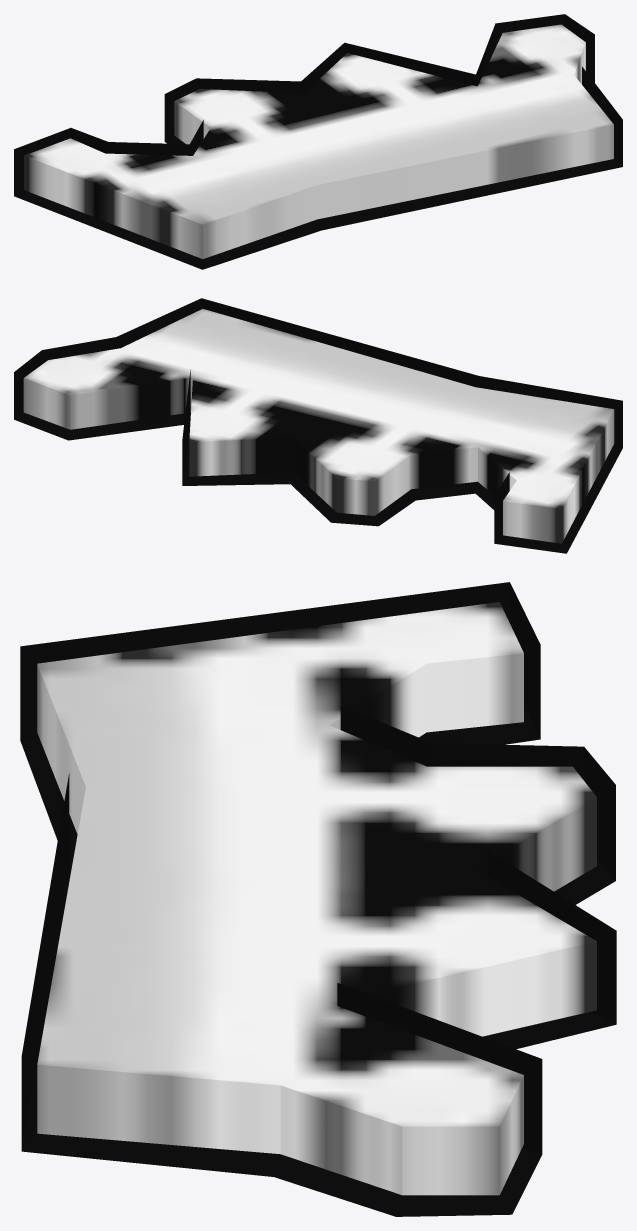
Rendered from Item_Apparel_Coronet_Things_Pawn_Humanlike_Apparel_Coronet_Coronet.glb.
The picture shows the model from 3 angles, top to bottom: view 1: azimuth 30°, elevation 25°; view 2: azimuth 150°, elevation 25°; view 3: azimuth 270°, elevation 25°; orthographic projection. The views are drawn at different scales.
Visible parts, largest first — view 1: Body, Outline; view 2: Body, Outline; view 3: Body, Outline.
Part boxes in pixels (x1=…): Body: x1=24, y1=24, x2=613, y2=258; Outline: x1=14, y1=14, x2=622, y2=269; Body: x1=23, y1=309, x2=614, y2=543; Outline: x1=14, y1=298, x2=622, y2=553; Body: x1=37, y1=602, x2=596, y2=1195; Outline: x1=20, y1=582, x2=616, y2=1216.
Size of the model in its own units: 0.4096 by 0.0391 by 0.1913.
Materials: 2 (1 with a texture image).
